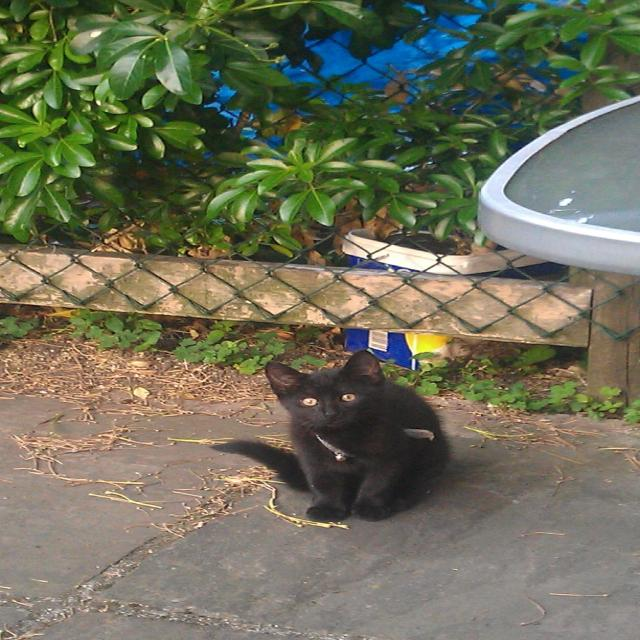Cat: (202, 351, 458, 522)
